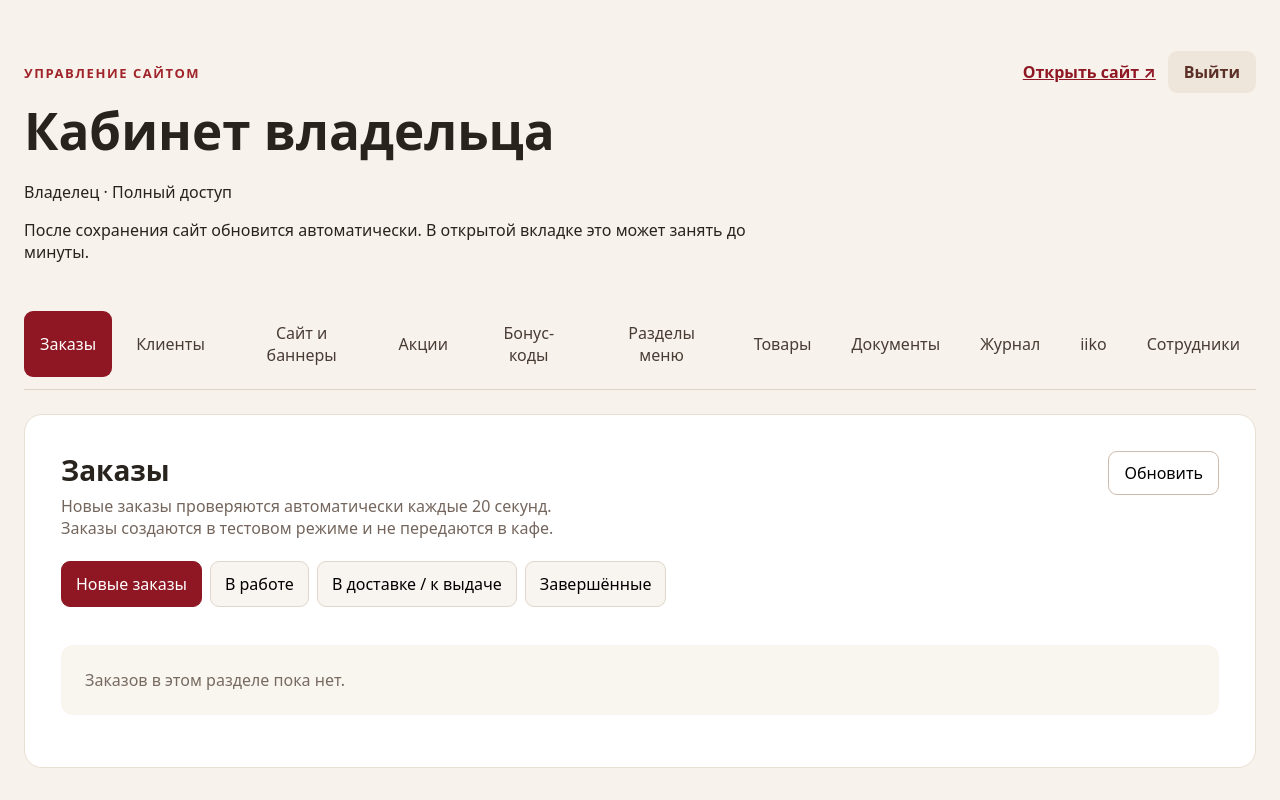
failed logout hides administrative data and retries revocation before restoring a session
Later steps or results of the test are not shown.
Click the button "Выйти" at (1212, 72), box x1=1168 y1=51 x2=1256 y2=93
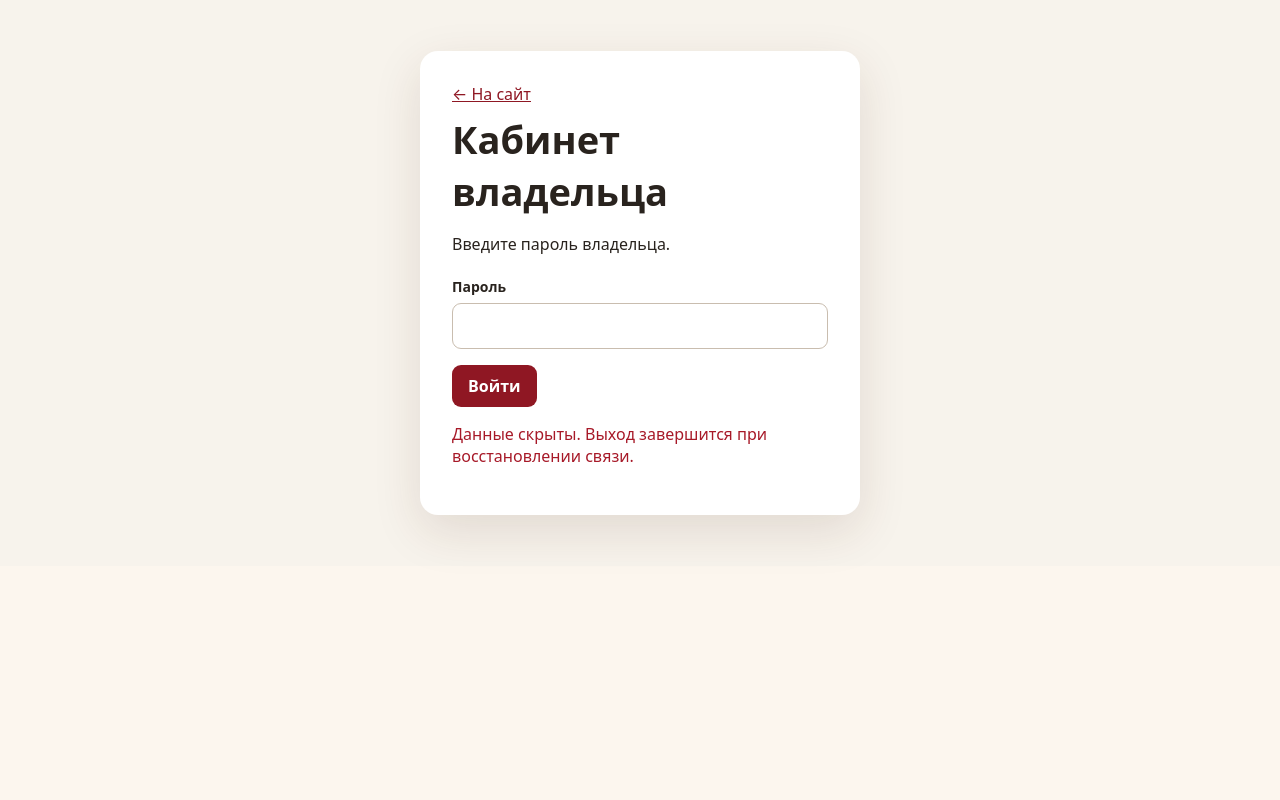
Now the button "Войти" is disabled, box x1=452 y1=365 x2=536 y2=407
